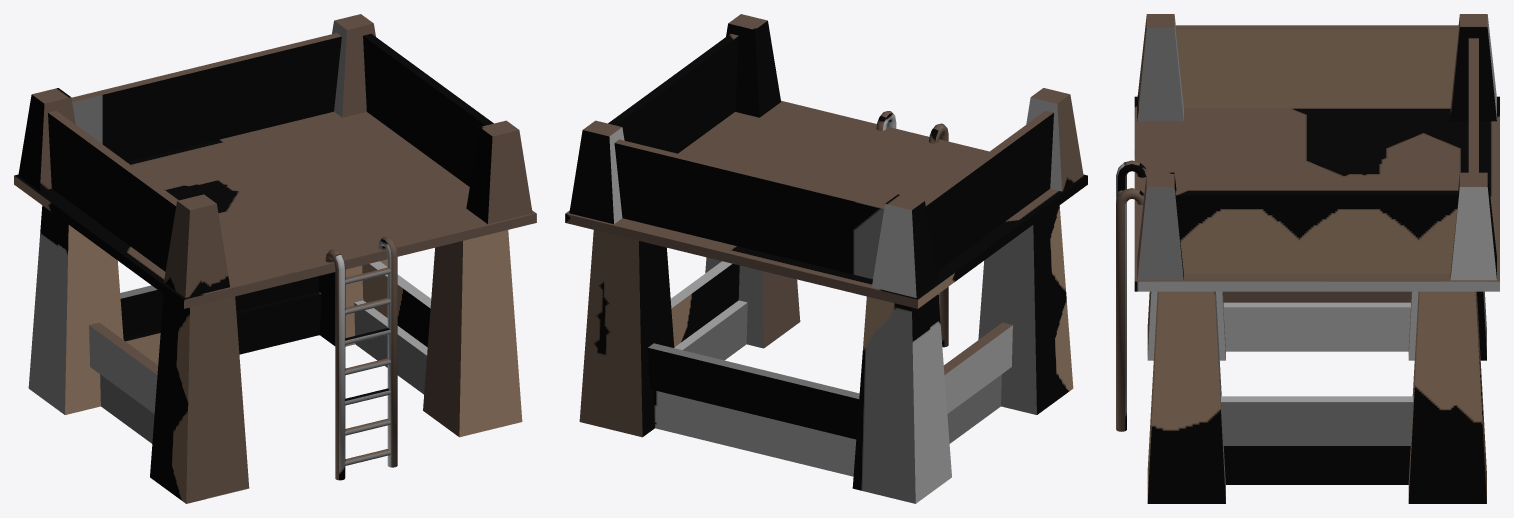
The picture shows the model from 3 angles, left to right: view 1: azimuth 30°, elevation 25°; view 2: azimuth 150°, elevation 25°; view 3: azimuth 270°, elevation 25°; orthographic projection. The views are drawn at different scales.
Visible parts, largest first — view 1: Gun Tower 4; view 2: Gun Tower 4; view 3: Gun Tower 4.
Boxes of the visible parts, box(x1,y1,x2,y2) form: Gun Tower 4: box(14, 14, 536, 503); Gun Tower 4: box(565, 14, 1087, 503); Gun Tower 4: box(1116, 14, 1499, 503).
Size of the model in its own units: 403 by 320 by 353.
